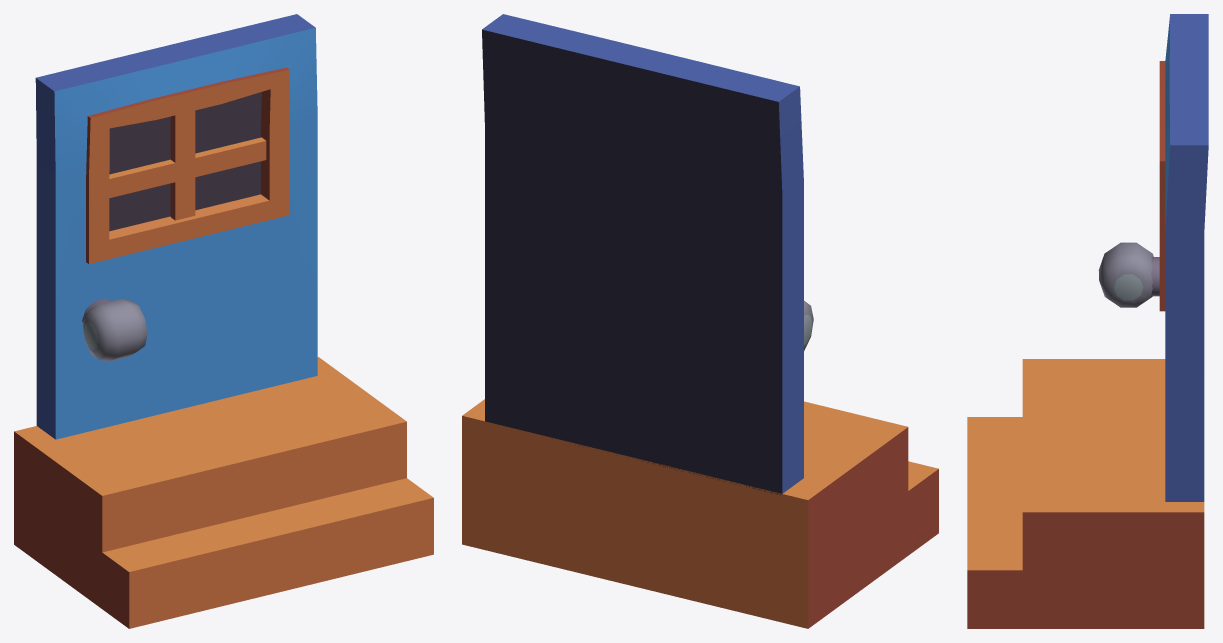
File: Door02_Blue_Wood.glb
3 views of the same model, side by side, from view 1: azimuth 30°, elevation 25°; view 2: azimuth 150°, elevation 25°; view 3: azimuth 270°, elevation 25° (orthographic). The views are drawn at different scales.
Visible parts, largest first — view 1: Door02_Blue_Wood; view 2: Door02_Blue_Wood; view 3: Door02_Blue_Wood.
Boxes of the visible parts, x1=… form: Door02_Blue_Wood: x1=14, y1=14, x2=433, y2=628; Door02_Blue_Wood: x1=462, y1=14, x2=938, y2=628; Door02_Blue_Wood: x1=967, y1=14, x2=1208, y2=628.
Bounding box in the file's own units: 0.9795 × 1.41 × 0.6527.
Materials: 1 (1 with a texture image).
